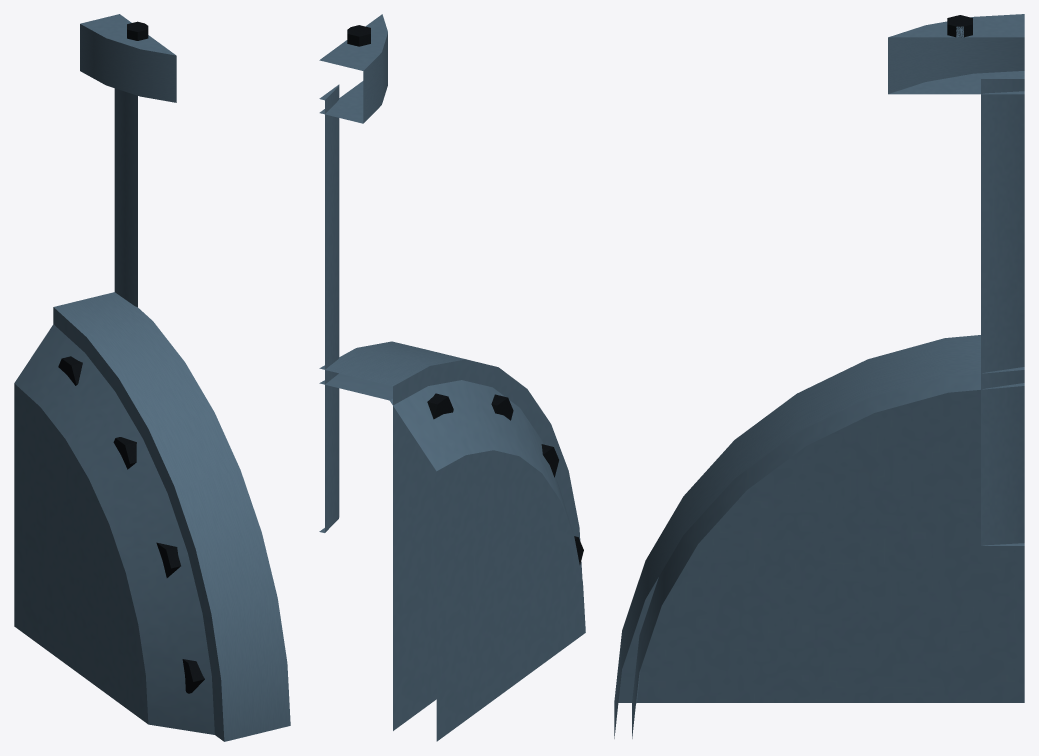
Rendered from cell_18.obj.
3 views of the same model, side by side, from view 1: azimuth 30°, elevation 25°; view 2: azimuth 150°, elevation 25°; view 3: azimuth 270°, elevation 25° (orthographic). The views are drawn at different scales.
Parts seen in each view (by area): view 1: cell_18; view 2: cell_18; view 3: cell_18.
Part boxes in pixels (box(x1,y1,x2,y2)): cell_18: box(14, 14, 290, 741); cell_18: box(319, 14, 585, 741); cell_18: box(614, 14, 1024, 738).
Bounding box in the file's own units: 0.175 × 0.9443 × 0.4911.
